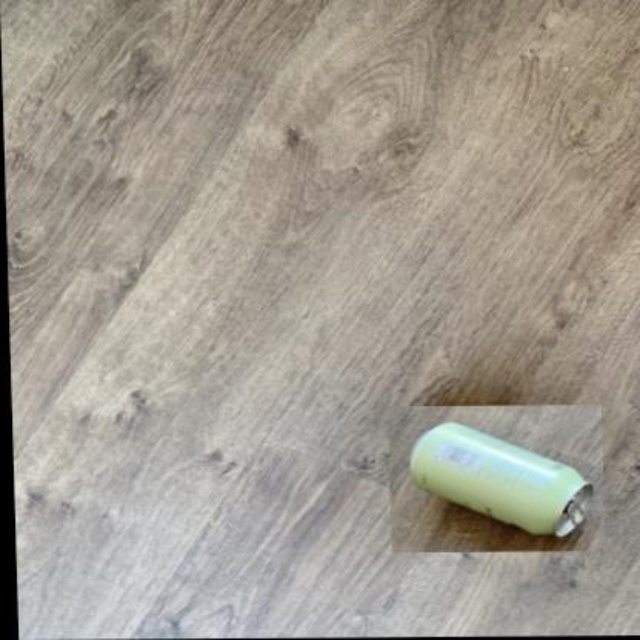trash: (409, 422, 591, 535)
